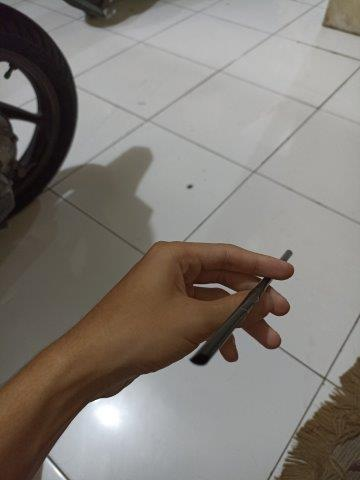sedotan: (190, 250, 294, 363)
